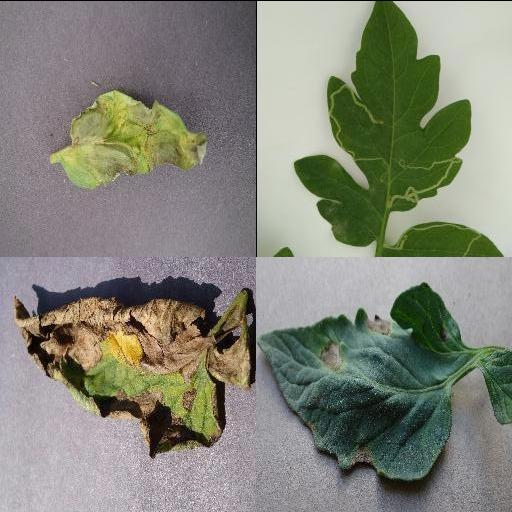Early Blight: (256, 280, 466, 481)
Late Blight: (11, 295, 251, 459), (61, 88, 209, 188)
Leaf Miner: (291, 0, 470, 246)
